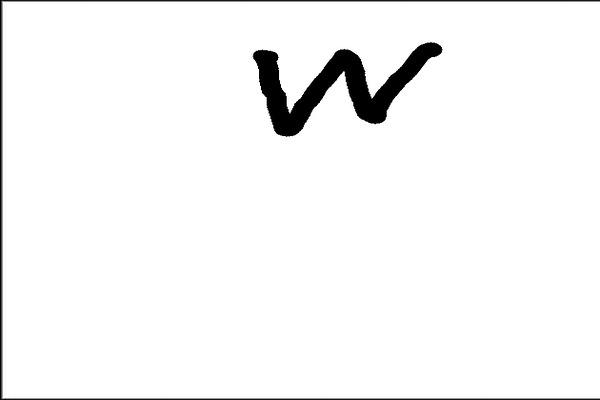w: (236, 27, 457, 151)
